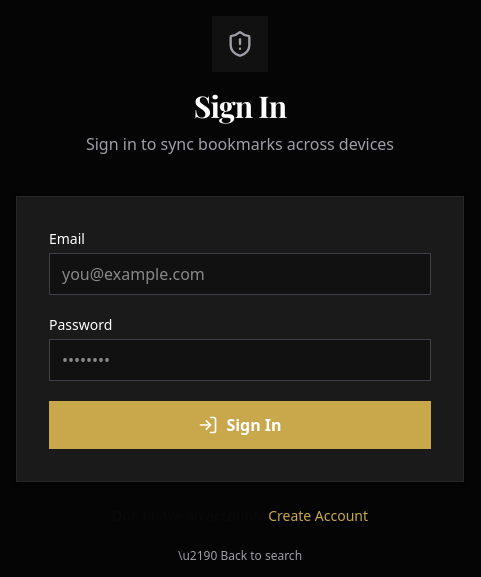
AuthPage › shows loading spinner on submit
This screenshot has width=481, height=577.
Type "test@test.com" into the field with placeholder "you@example.com".
click(240, 274); type("test@test.com")  # box [49,253,431,295]
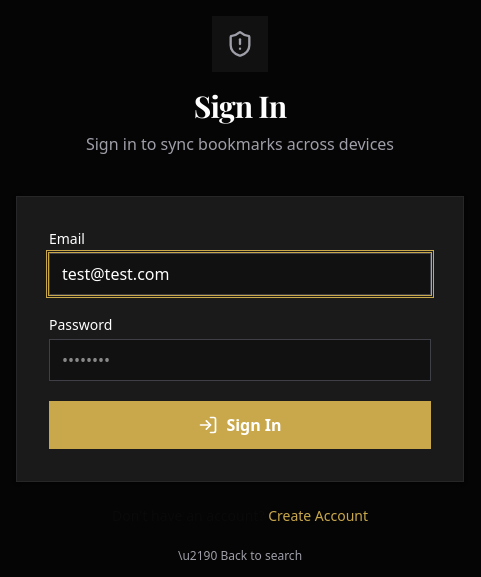
Type "password" into the password field with placeholder "••••••••".
click(240, 360); type("password")  # box [49,339,431,381]
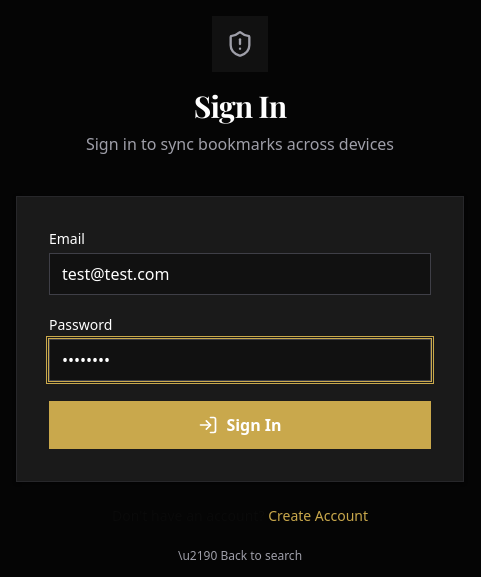
Click the button "Sign In".
click(240, 425)  # box [49,401,431,449]
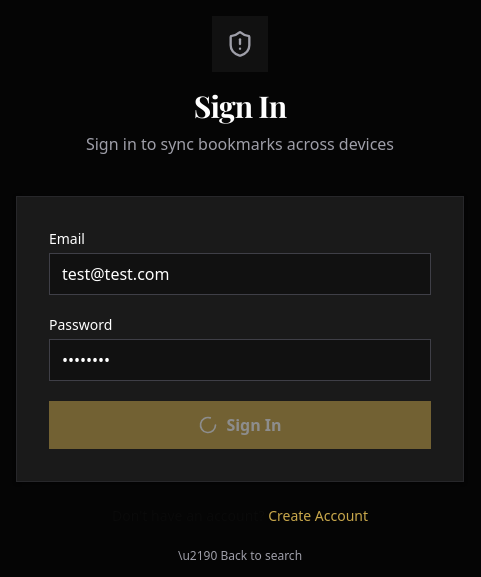
Now the button "Sign In" is disabled, box [49,401,431,449]
